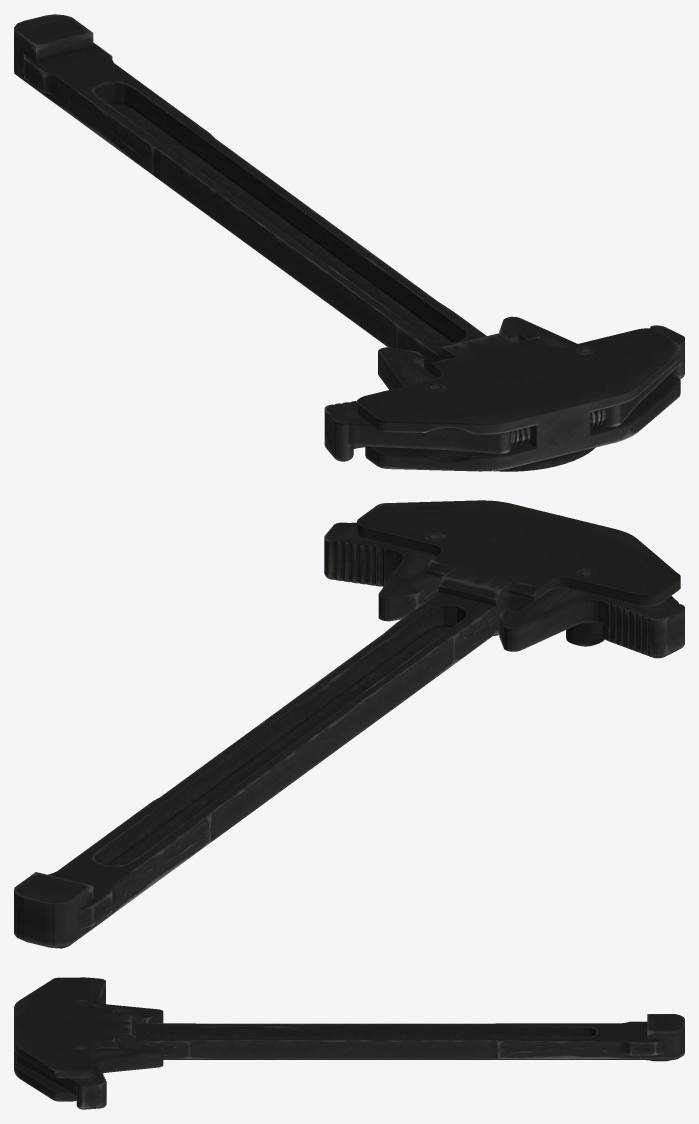
3 renders of one model, top to bottom at view 1: azimuth 30°, elevation 25°; view 2: azimuth 150°, elevation 25°; view 3: azimuth 270°, elevation 25°, orthographic. The views are drawn at different scales.
Visible parts, largest first — view 1: TW_6761492dc53ebe8c0f0a5efe_PZ_Import; view 2: TW_6761492dc53ebe8c0f0a5efe_PZ_Import; view 3: TW_6761492dc53ebe8c0f0a5efe_PZ_Import.
Part boxes in pixels (x1=…): TW_6761492dc53ebe8c0f0a5efe_PZ_Import: x1=14, y1=14, x2=684, y2=471; TW_6761492dc53ebe8c0f0a5efe_PZ_Import: x1=14, y1=500, x2=684, y2=948; TW_6761492dc53ebe8c0f0a5efe_PZ_Import: x1=14, y1=977, x2=684, y2=1109.
Bounding box in the file's own units: 0.0335 × 0.0877 × 0.00609.
Materials: 1 (1 with a texture image).
